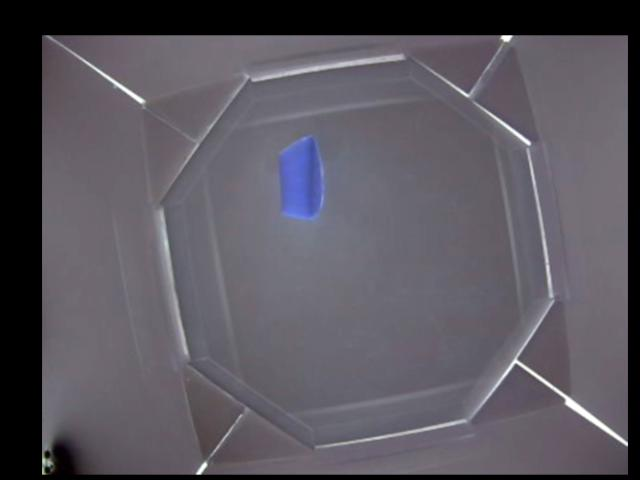Potato: (278, 136, 323, 220)
